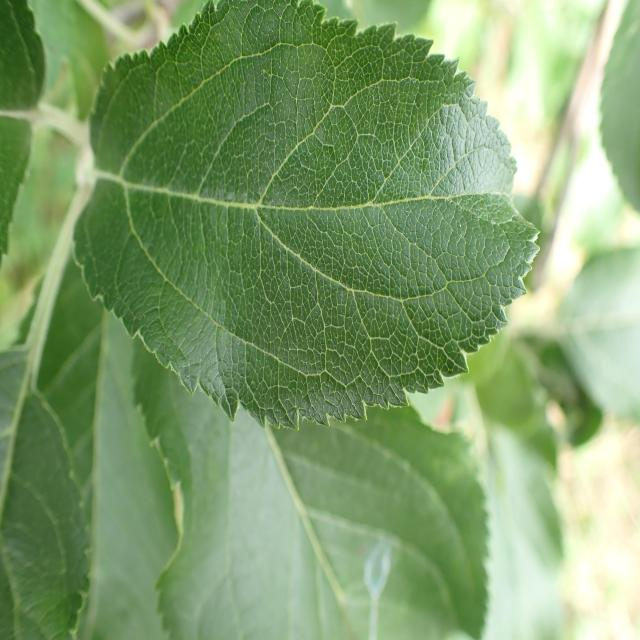healthy: (72, 1, 542, 433), (133, 342, 491, 640), (0, 346, 91, 640), (0, 1, 47, 267), (598, 1, 640, 214)
